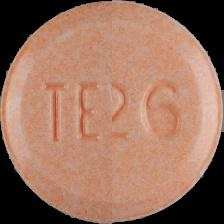54458-916: (0, 0, 224, 224)
